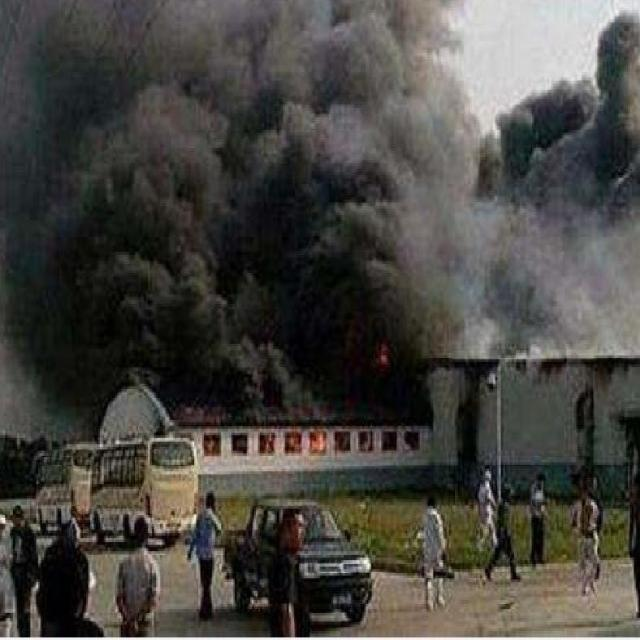Smoke: (1, 1, 640, 443)
